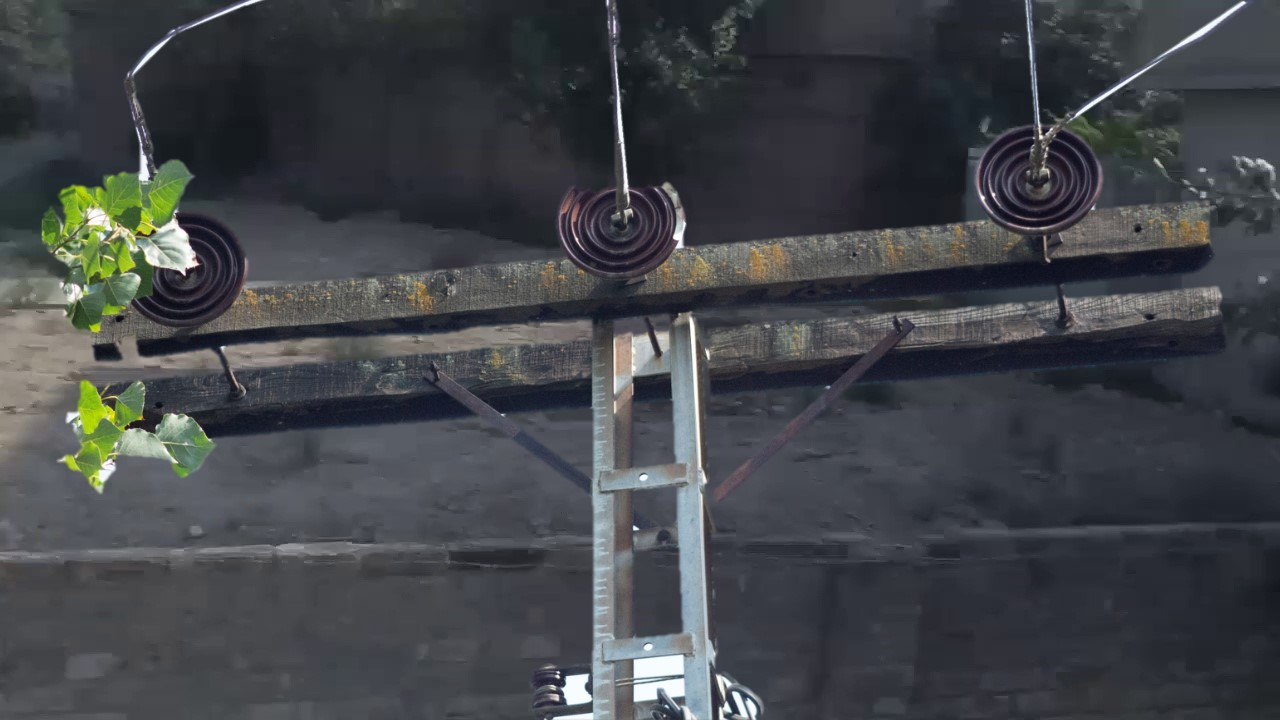defect_disc: (552, 171, 691, 284)
insulator_disc: (973, 120, 1106, 238), (168, 209, 250, 326)
